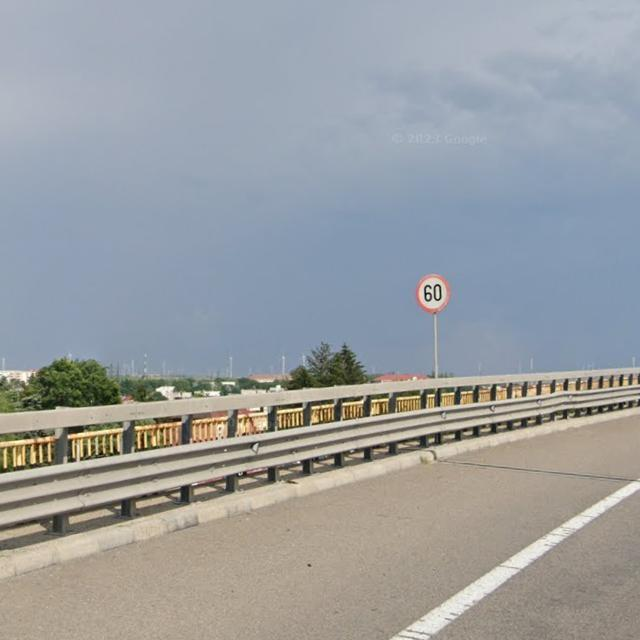forb_speed_over_60: (416, 273, 451, 314)
